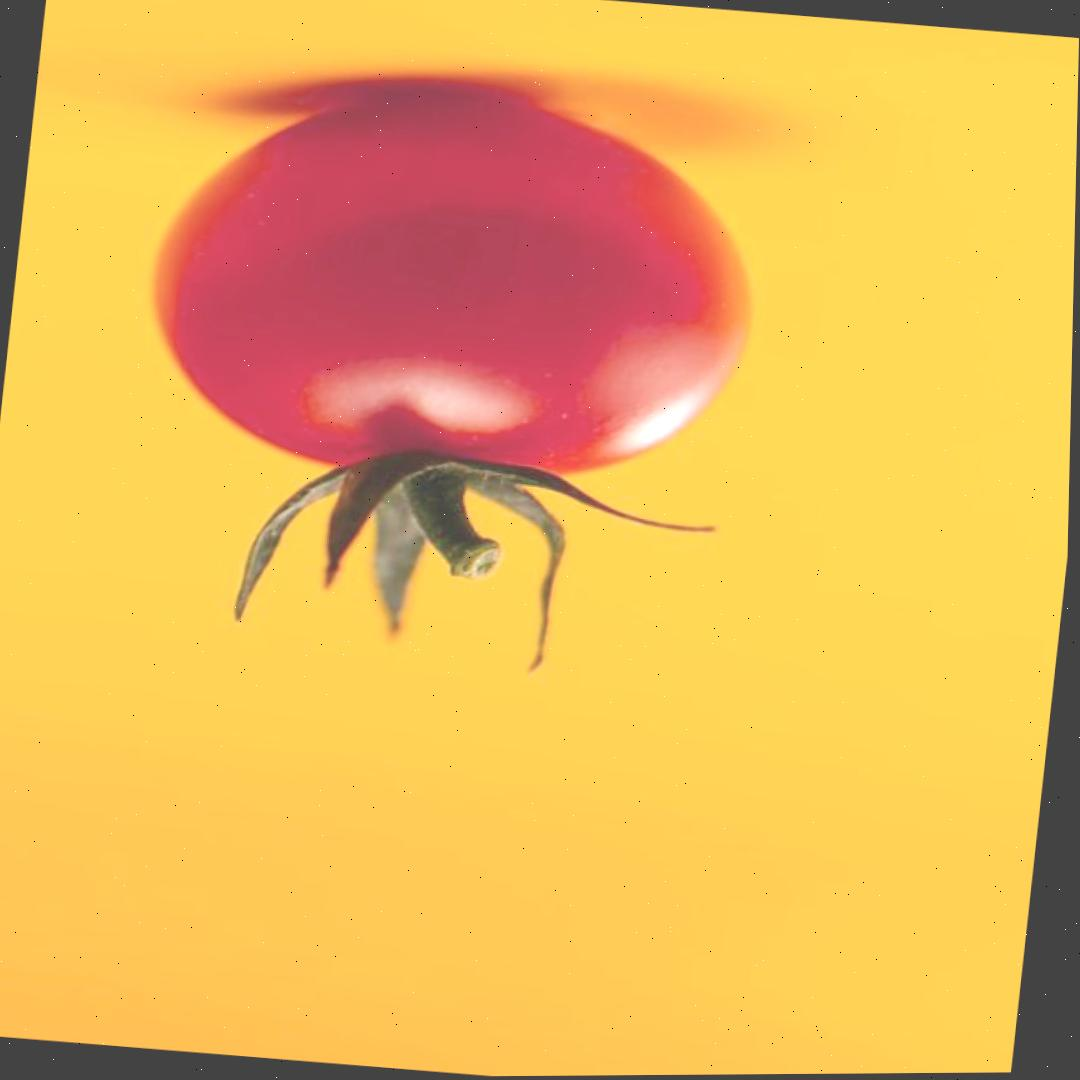matang: (109, 70, 773, 690)
